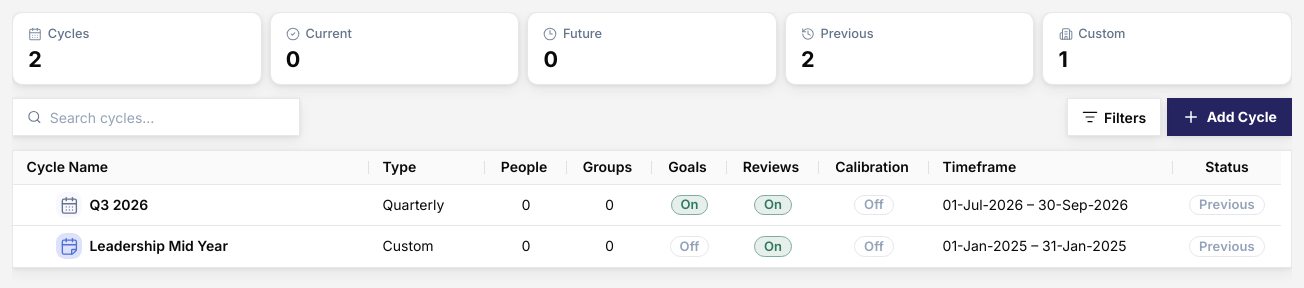
Test case: CyclesList › shows a date-based status for custom cycles and filters them by kind
Expected: the row "Leadership Mid Year" shows "Custom", x1=383 y1=237 x2=434 y2=254
Expected: the row "Leadership Mid Year" shows "Previous", x1=1199 y1=238 x2=1255 y2=254
Click the button "Custom 1".
click(1167, 48)  # box x1=1042 y1=12 x2=1292 y2=85
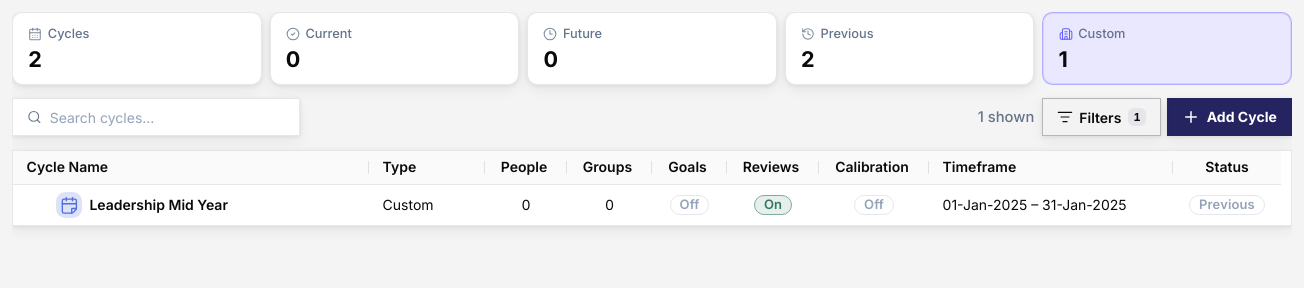
Expected: the link "Leadership Mid Year" is shown, x1=56 y1=192 x2=228 y2=218
Expected: the link "Q3 2026" is gone
